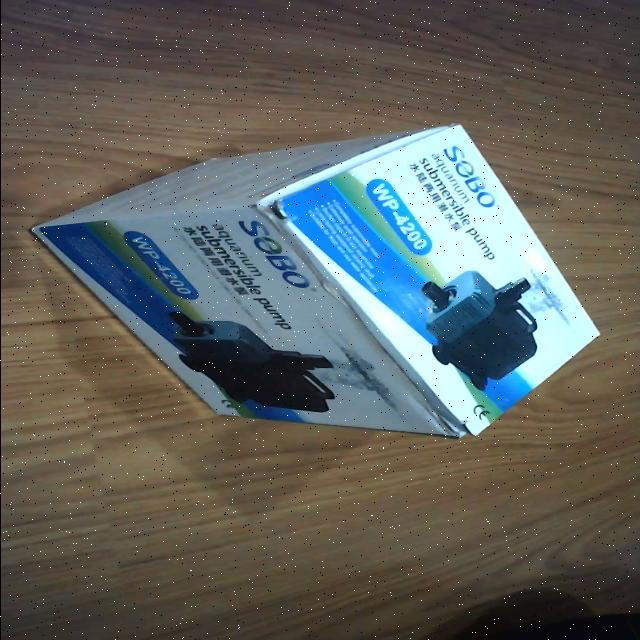SOBO_WP_4200: (24, 116, 612, 448)
